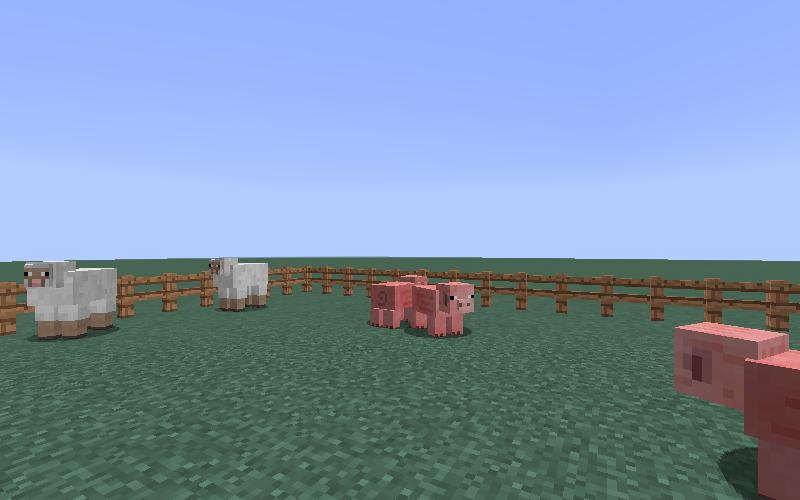pig: (674, 322, 800, 499), (368, 269, 427, 338), (408, 280, 477, 339)
sheep: (19, 253, 123, 342), (208, 253, 272, 316)
